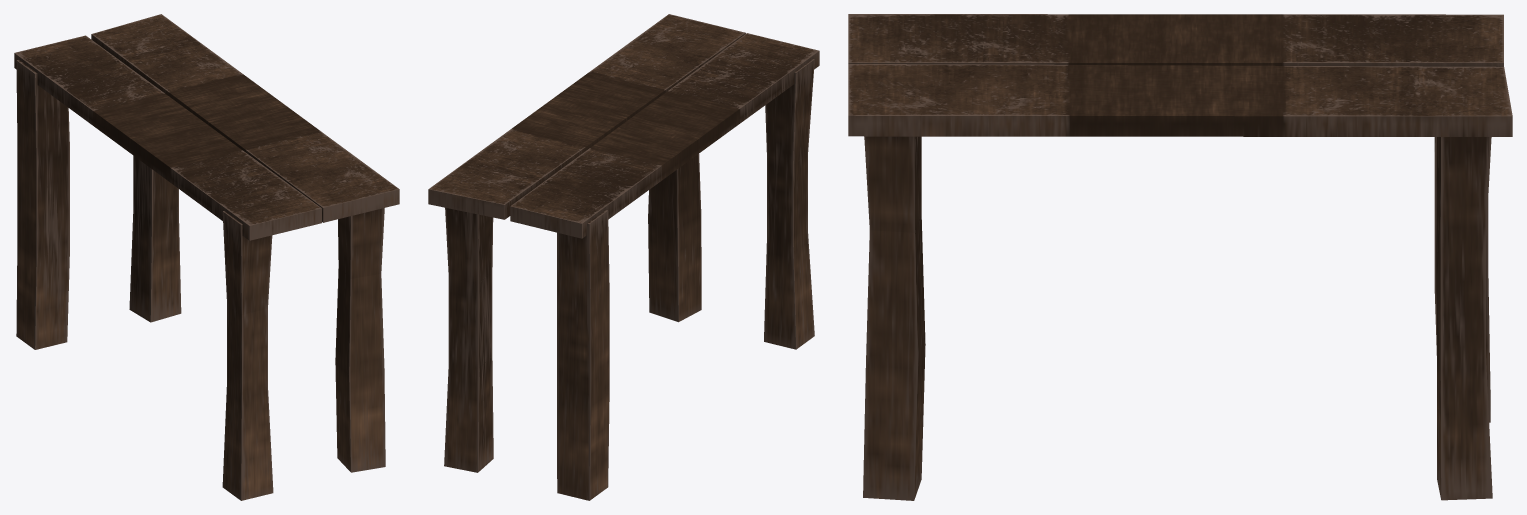
Rendered from workbench.glb.
The picture shows the model from 3 angles, left to right: view 1: azimuth 30°, elevation 25°; view 2: azimuth 150°, elevation 25°; view 3: azimuth 270°, elevation 25°; orthographic projection. The views are drawn at different scales.
Visible parts, largest first — view 1: workbench; view 2: workbench; view 3: workbench.
Part boxes in pixels (x1=…): workbench: x1=14, y1=14, x2=399, y2=500; workbench: x1=428, y1=14, x2=819, y2=500; workbench: x1=848, y1=14, x2=1512, y2=500.
Bounding box in the file's own units: 0.4326 × 0.7553 × 1.17.
1 material, 1 textured.
